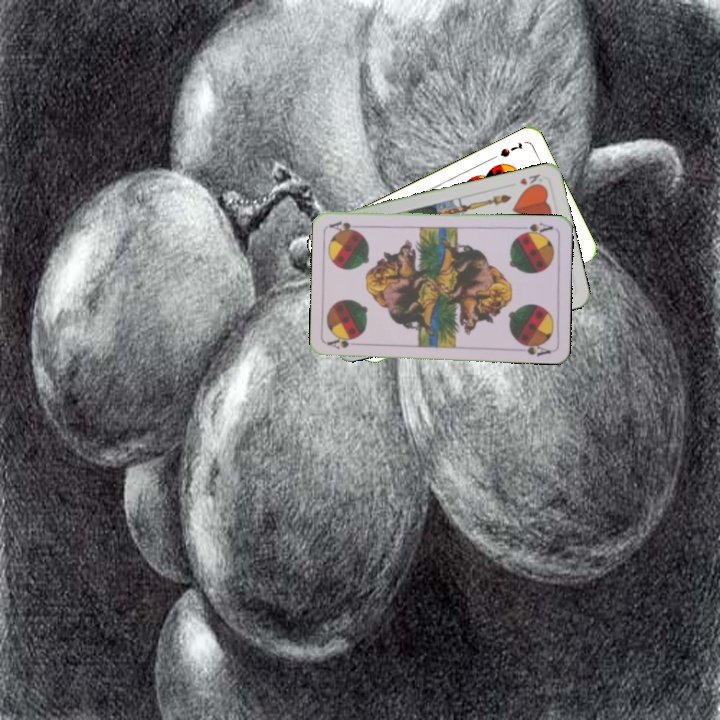HK: (515, 170, 546, 192)
S7: (496, 138, 525, 160)
SA: (516, 218, 556, 238), (324, 334, 365, 351)
